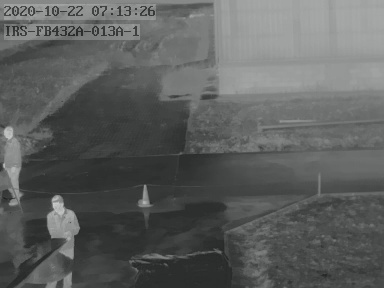person: (43, 195, 80, 260), (3, 126, 26, 206)
